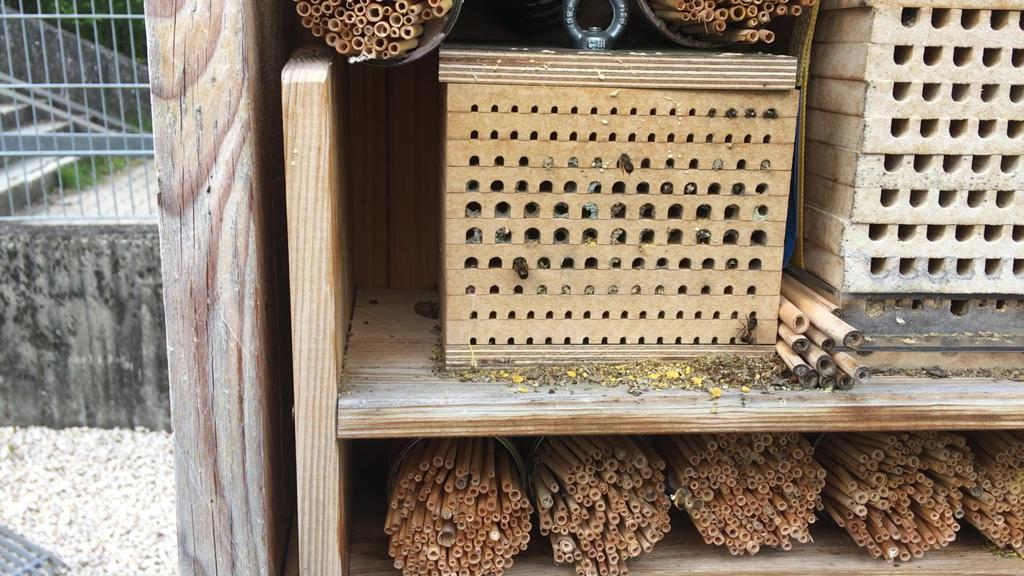bee: (505, 251, 536, 286)
